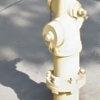Hydrant: (36, 0, 91, 100)
